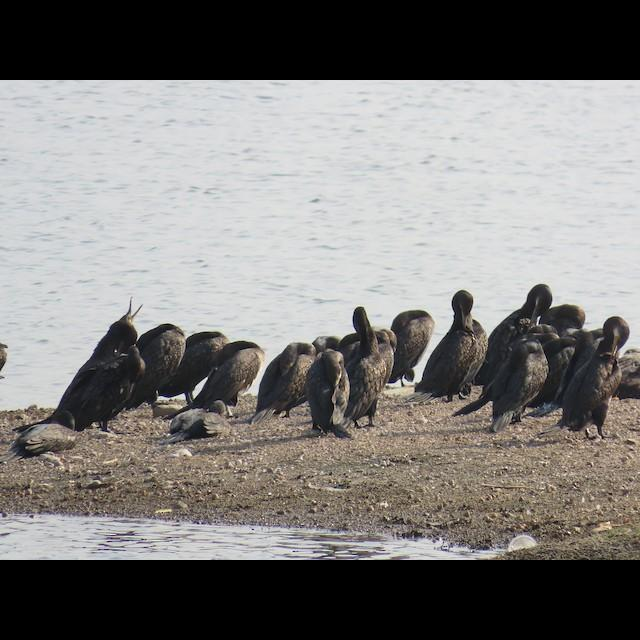cormorant: (554, 318, 628, 440), (411, 291, 487, 405), (69, 348, 145, 426), (490, 342, 548, 432), (353, 307, 397, 425), (204, 337, 262, 407), (308, 350, 352, 440), (263, 340, 305, 422), (496, 280, 552, 334), (148, 326, 186, 402)
